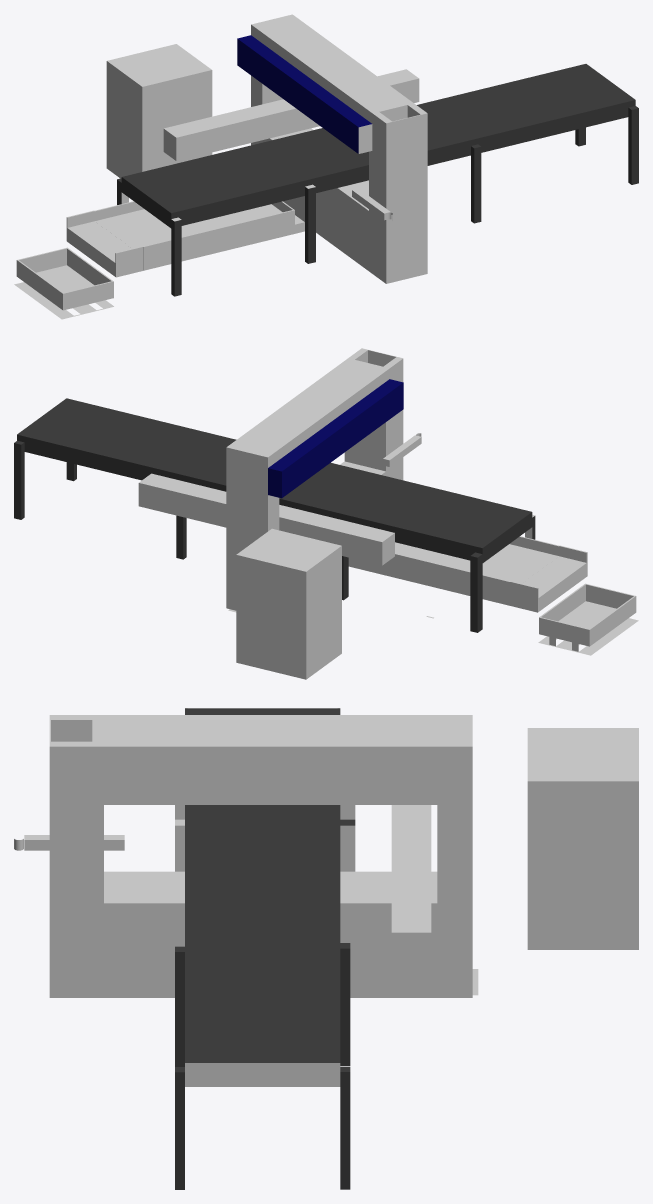
Rendered from machine1.obj.
3 views of the same model, one above another, from view 1: azimuth 30°, elevation 25°; view 2: azimuth 150°, elevation 25°; view 3: azimuth 270°, elevation 25° (orthographic). The views are drawn at different scales.
Parts seen in each view (by area): view 1: Mesh1 Group1 Model, Mesh2 Group1 Model, Mesh11 Group1 Model, Mesh8 Group1 Model, Mesh7 Group1 Model, Mesh6 Group1 Model, Mesh9 Group1 Model; view 2: Mesh1 Group1 Model, Mesh2 Group1 Model, Mesh11 Group1 Model, Mesh8 Group1 Model, Mesh7 Group1 Model, Mesh6 Group1 Model, Mesh9 Group1 Model; view 3: Mesh2 Group1 Model, Mesh1 Group1 Model, Mesh11 Group1 Model, Mesh8 Group1 Model, Mesh9 Group1 Model.
Boxes of the visible parts, left/top/right/bottom form: Mesh1 Group1 Model: left=94, top=64, right=638, bottom=296; Mesh2 Group1 Model: left=237, top=14, right=427, bottom=283; Mesh11 Group1 Model: left=106, top=44, right=212, bottom=178; Mesh8 Group1 Model: left=163, top=69, right=419, bottom=160; Mesh7 Group1 Model: left=14, top=247, right=113, bottom=319; Mesh6 Group1 Model: left=66, top=210, right=143, bottom=277; Mesh9 Group1 Model: left=352, top=188, right=390, bottom=220; Mesh1 Group1 Model: left=14, top=398, right=559, bottom=632; Mesh2 Group1 Model: left=226, top=348, right=403, bottom=612; Mesh11 Group1 Model: left=236, top=528, right=341, bottom=679; Mesh8 Group1 Model: left=138, top=473, right=394, bottom=565; Mesh7 Group1 Model: left=538, top=583, right=638, bottom=655; Mesh6 Group1 Model: left=510, top=545, right=587, bottom=612; Mesh9 Group1 Model: left=383, top=435, right=421, bottom=466; Mesh2 Group1 Model: left=49, top=715, right=478, bottom=997; Mesh1 Group1 Model: left=175, top=708, right=355, bottom=1189; Mesh11 Group1 Model: left=527, top=728, right=638, bottom=949; Mesh8 Group1 Model: left=391, top=805, right=431, bottom=969; Mesh9 Group1 Model: left=24, top=835, right=124, bottom=850.
Size of the model in its own units: 326 by 87.4 by 197.
